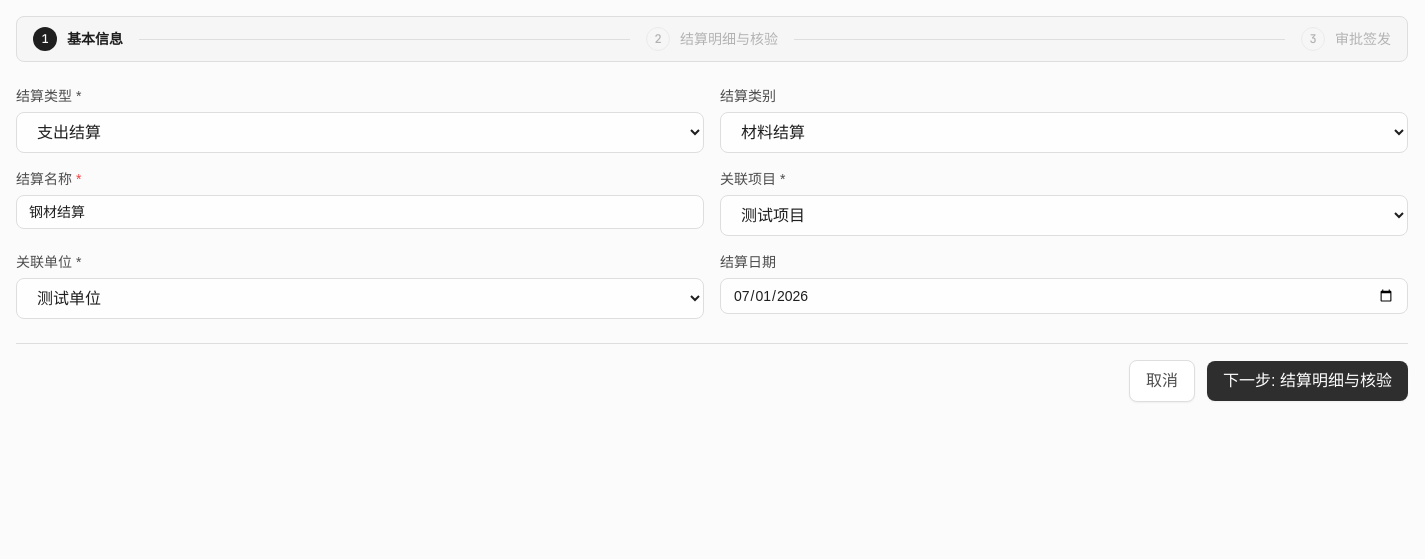
Test case: SettlementForm (S20) › 编辑模式：明细合计与金额一致时显示"核验通过"
The width and height of the screenshot is (1425, 559).
Click the button "下一步: 结算明细与核验". click: (1308, 381)
box: [1207,361,1408,401]
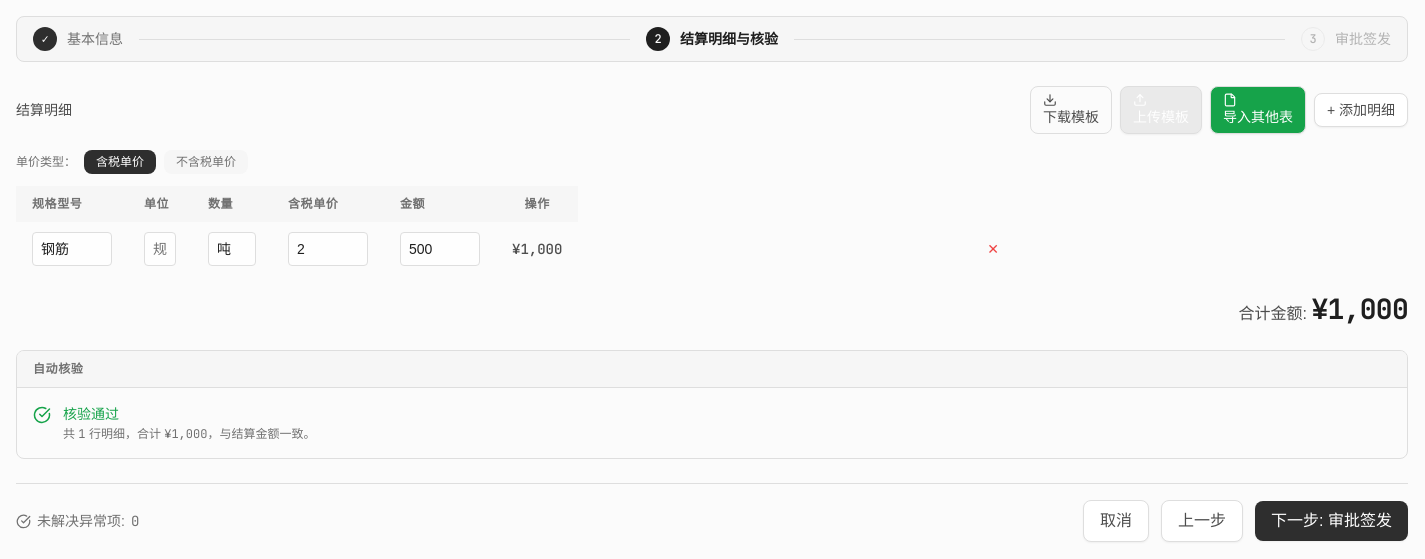
Expected: the text "核验通过" is shown, [63,406,119,422]
Expected: the text "未解决异常项: 0" is shown, [16,511,139,531]
